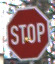stopsign: (7, 7, 51, 60)
